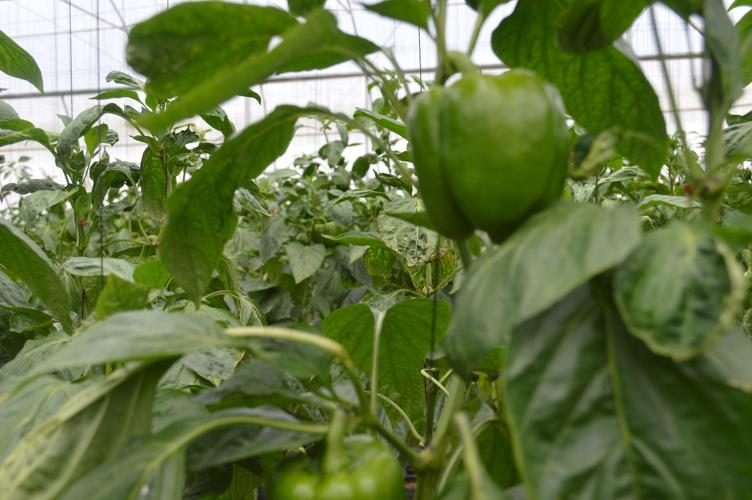BellPepper: (410, 69, 570, 230), (270, 435, 404, 497)
